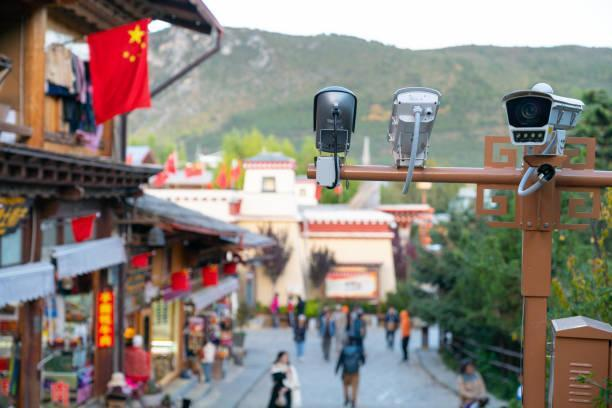camera: (491, 71, 589, 198), (381, 70, 444, 192), (303, 71, 363, 194)
